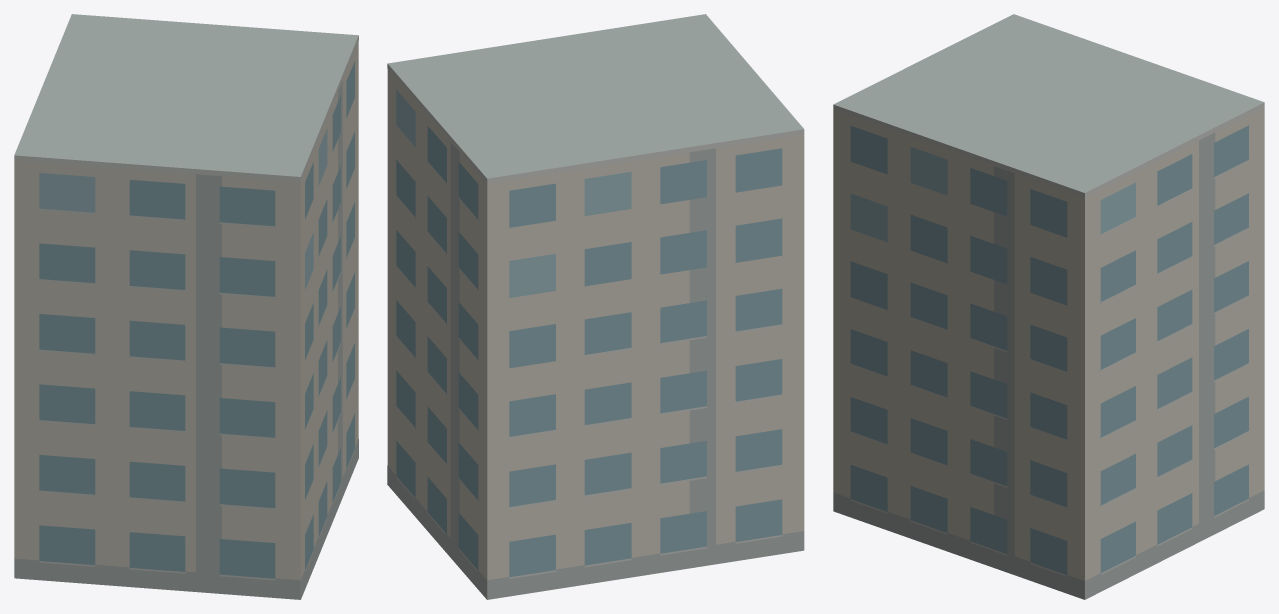
Rendered from survey-upis-32883330.glb.
3 renders of one model, left to right at view 1: azimuth 30°, elevation 25°; view 2: azimuth 150°, elevation 25°; view 3: azimuth 270°, elevation 25°, orthographic. The views are drawn at different scales.
Parts seen in each view (by area): view 1: survey-upis-32883330.tmp; view 2: survey-upis-32883330.tmp; view 3: survey-upis-32883330.tmp.
Part boxes in pixels (bbox=[...]): survey-upis-32883330.tmp: bbox=[14, 14, 358, 599]; survey-upis-32883330.tmp: bbox=[387, 14, 804, 599]; survey-upis-32883330.tmp: bbox=[833, 14, 1264, 599].
Size of the model in its own units: 18.7 by 19.8 by 19.04.
